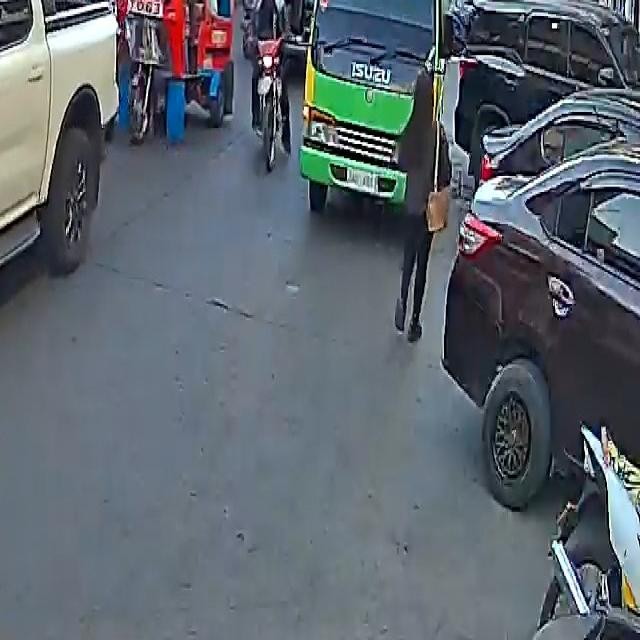car: (442, 82, 640, 522), (0, 0, 120, 425), (452, 0, 640, 183)
